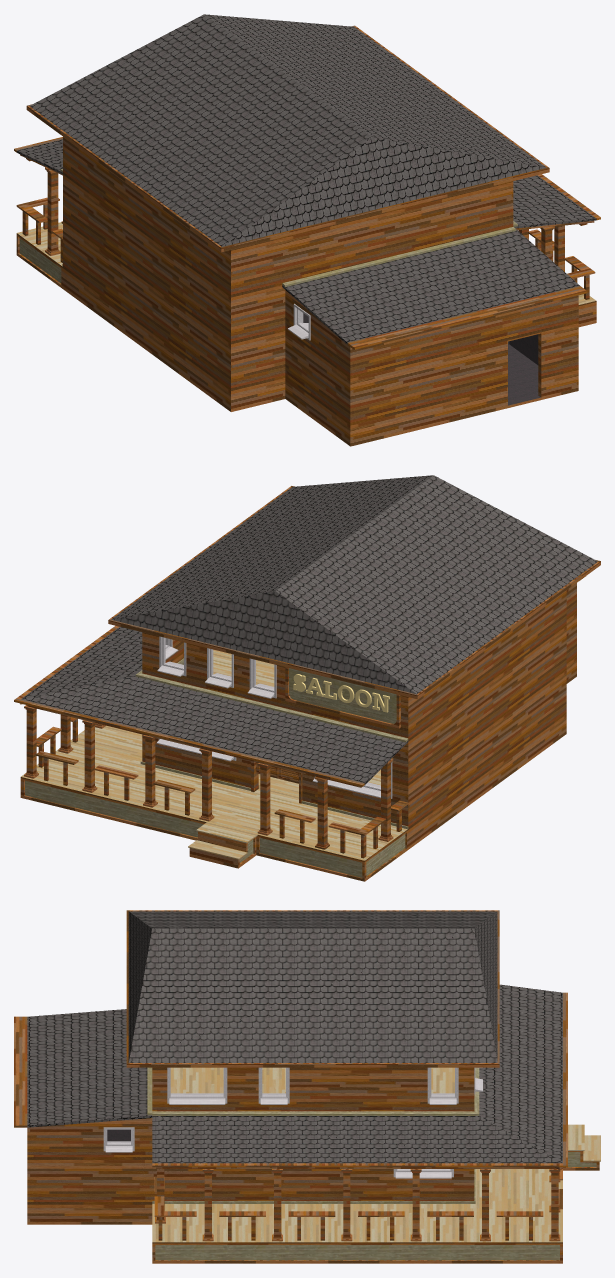
Rendered from buiding1_saloon.obj.
3 views of the same model, one above another, from view 1: azimuth 30°, elevation 25°; view 2: azimuth 150°, elevation 25°; view 3: azimuth 270°, elevation 25° (orthographic). The views are drawn at different scales.
Parts seen in each view (by area): view 1: Mesh38 skeF93_1 Model, Mesh37 Group29 skeF93_1 Model, Mesh13 Group13 skeF93_1 Model, Mesh39 skeF93_1 Model; view 2: Mesh38 skeF93_1 Model, Mesh37 Group29 skeF93_1 Model, Mesh1 Group1 skeF93_1 Model, Mesh4 Group4 skeF93_1 Model, Mesh5 Group5 skeF93_1 Model, Mesh11 Group11 skeF93_1 Model, Mesh39 skeF93_1 Model, Mesh2 Group2 skeF93_1 Model, Mesh13 Group13 skeF93_1 Model, Mesh3 Group3 skeF93_1 Model; view 3: Mesh38 skeF93_1 Model, Mesh37 Group29 skeF93_1 Model, Mesh46 skeF93_1 Model, Mesh8 Group8 skeF93_1 Model, Mesh9 Group9 skeF93_1 Model, Mesh12 Group12 skeF93_1 Model, Mesh5 Group5 skeF93_1 Model, Mesh10 Group10 skeF93_1 Model, Mesh6 Group6 skeF93_1 Model, Mesh47 skeF93_1 Model, Mesh48 skeF93_1 Model, Mesh45 skeF93_1 Model (+2 smaller).
Part boxes in pixels (bbox=[...]): Mesh38 skeF93_1 Model: bbox=[14, 137, 600, 446]; Mesh37 Group29 skeF93_1 Model: bbox=[26, 14, 549, 252]; Mesh13 Group13 skeF93_1 Model: bbox=[45, 167, 60, 255]; Mesh39 skeF93_1 Model: bbox=[16, 197, 59, 244]; Mesh38 skeF93_1 Model: bbox=[14, 576, 585, 881]; Mesh37 Group29 skeF93_1 Model: bbox=[108, 475, 600, 699]; Mesh1 Group1 skeF93_1 Model: bbox=[285, 667, 400, 728]; Mesh4 Group4 skeF93_1 Model: bbox=[82, 720, 97, 792]; Mesh5 Group5 skeF93_1 Model: bbox=[24, 705, 38, 778]; Mesh11 Group11 skeF93_1 Model: bbox=[257, 763, 272, 835]; Mesh39 skeF93_1 Model: bbox=[328, 816, 386, 858]; Mesh2 Group2 skeF93_1 Model: bbox=[143, 735, 157, 807]; Mesh13 Group13 skeF93_1 Model: bbox=[378, 758, 393, 841]; Mesh3 Group3 skeF93_1 Model: bbox=[199, 748, 214, 821]; Mesh38 skeF93_1 Model: bbox=[14, 984, 600, 1263]; Mesh37 Group29 skeF93_1 Model: bbox=[126, 910, 499, 1067]; Mesh46 skeF93_1 Model: bbox=[154, 1196, 196, 1240]; Mesh8 Group8 skeF93_1 Model: bbox=[410, 1169, 421, 1241]; Mesh9 Group9 skeF93_1 Model: bbox=[341, 1169, 352, 1241]; Mesh12 Group12 skeF93_1 Model: bbox=[202, 1169, 213, 1241]; Mesh5 Group5 skeF93_1 Model: bbox=[549, 1169, 560, 1241]; Mesh10 Group10 skeF93_1 Model: bbox=[272, 1169, 282, 1241]; Mesh6 Group6 skeF93_1 Model: bbox=[480, 1169, 490, 1241]; Mesh47 skeF93_1 Model: bbox=[358, 1211, 404, 1240]; Mesh48 skeF93_1 Model: bbox=[288, 1211, 335, 1240]; Mesh45 skeF93_1 Model: bbox=[427, 1211, 473, 1240].
Bounding box in the file's own units: 422 × 247 × 570.
